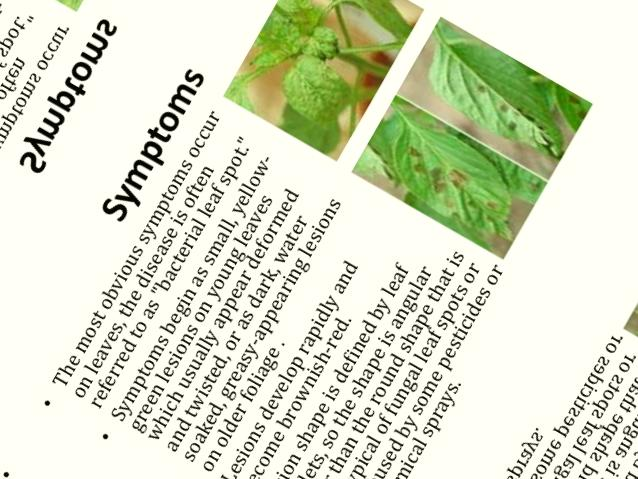Tomato leaf bacterial spot: (404, 21, 584, 167), (360, 103, 536, 246), (274, 46, 370, 138)
